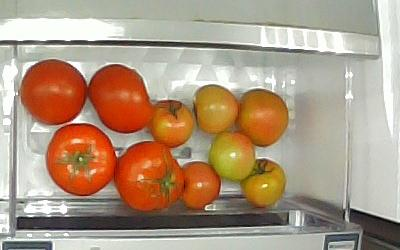tomato: (45, 123, 118, 198), (116, 140, 185, 212), (88, 63, 156, 135), (19, 58, 86, 125), (237, 88, 289, 150), (208, 132, 256, 182), (242, 158, 287, 209), (149, 99, 195, 148), (194, 84, 238, 135), (181, 161, 221, 210)
